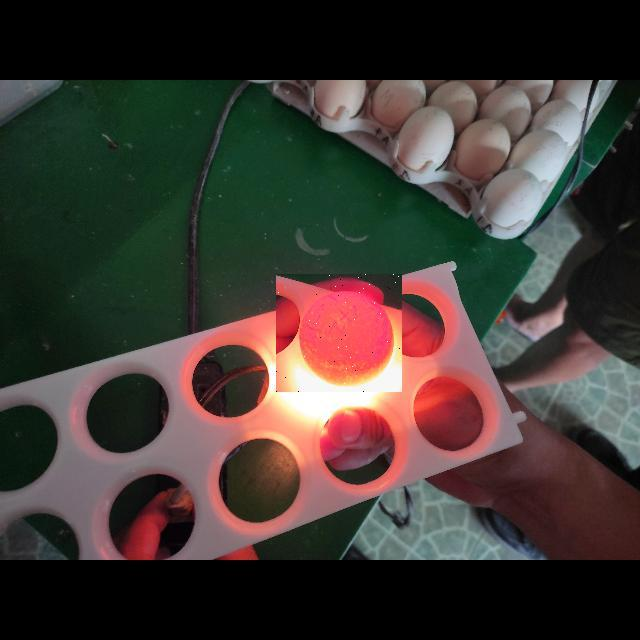Infertile: (276, 274, 402, 392)
